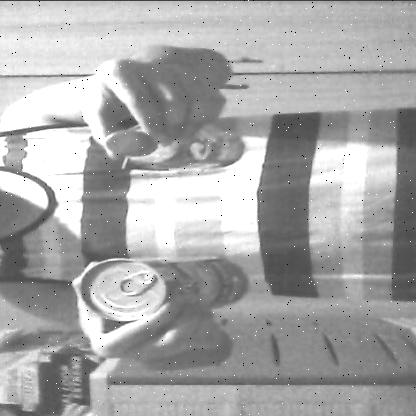Can: (80, 256, 248, 326)
Plastic Bottle: (91, 108, 259, 180)
